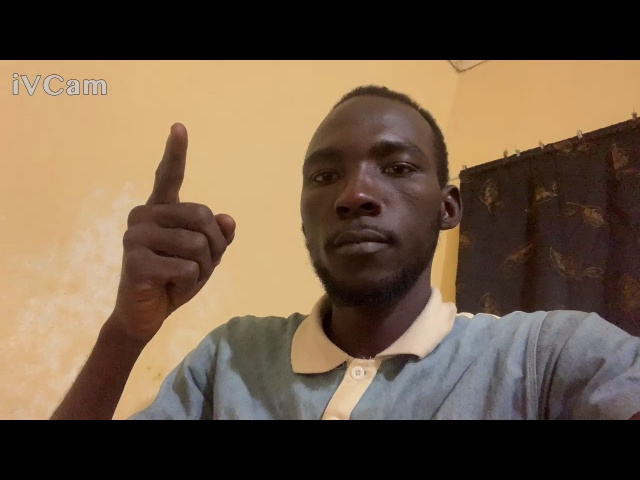tu: (114, 118, 233, 333)
